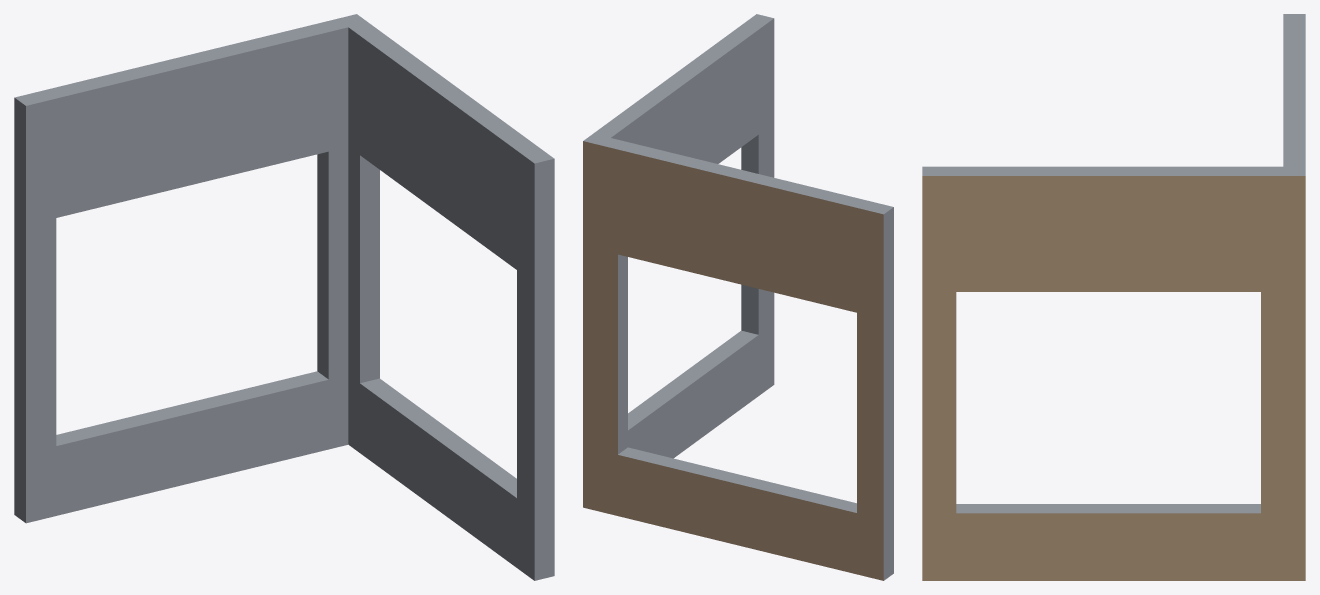
The model's file is Wall2_C6_15.fbx.
3 views of the same model, side by side, from view 1: azimuth 30°, elevation 25°; view 2: azimuth 150°, elevation 25°; view 3: azimuth 270°, elevation 25° (orthographic). The views are drawn at different scales.
Parts seen in each view (by area): view 1: Wall2_C6_15; view 2: Wall2_C6_15; view 3: Wall2_C6_15.
Part boxes in pixels (x1=…): Wall2_C6_15: x1=14, y1=14, x2=554, y2=580; Wall2_C6_15: x1=583, y1=14, x2=893, y2=580; Wall2_C6_15: x1=922, y1=14, x2=1305, y2=580.
Bounding box in the file's own units: 258 × 300 × 258.
